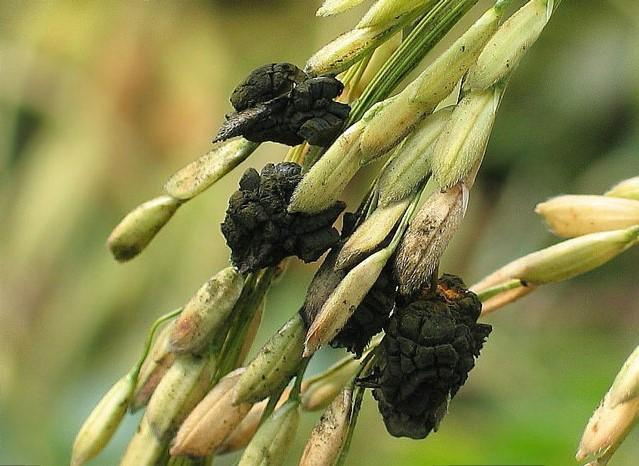False Smut: (364, 265, 494, 450), (304, 204, 403, 366), (210, 55, 353, 152), (224, 160, 341, 271)
